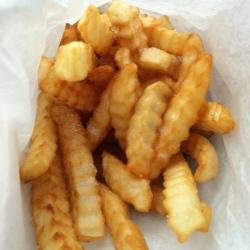fries: (33, 8, 210, 230)
